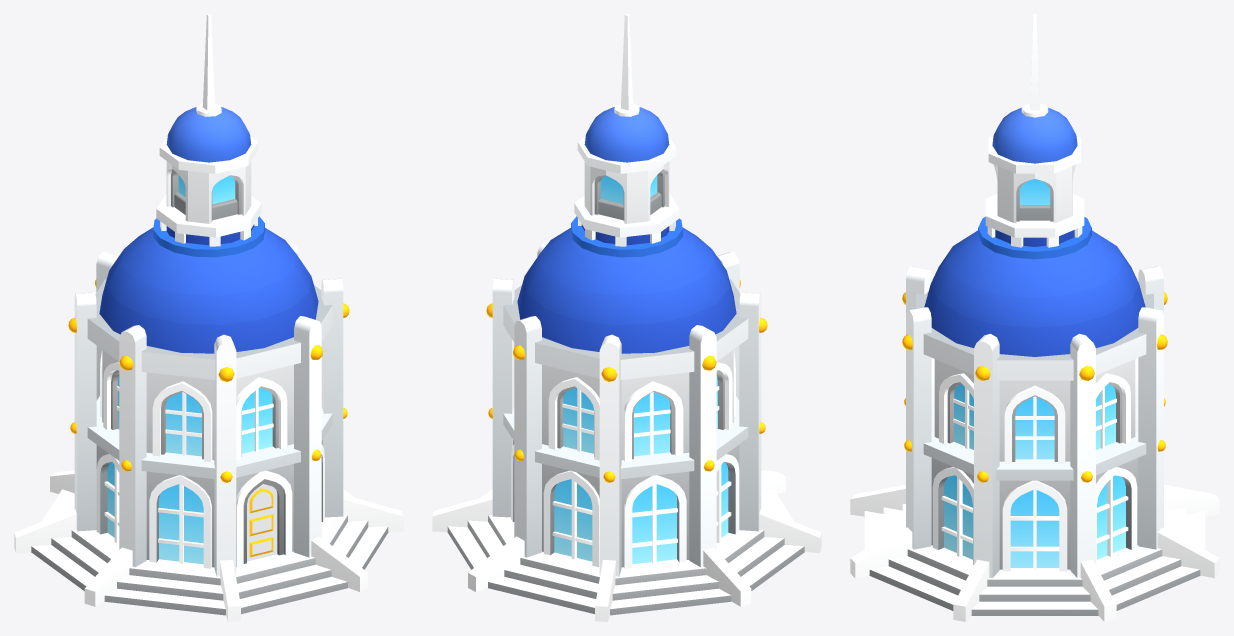
Rendered from Building_Temple_10.glb.
The picture shows the model from 3 angles, left to right: view 1: azimuth 30°, elevation 25°; view 2: azimuth 150°, elevation 25°; view 3: azimuth 270°, elevation 25°; orthographic projection.
Parts seen in each view (by area): view 1: Building_Temple_10; view 2: Building_Temple_10; view 3: Building_Temple_10.
Part boxes in pixels (x1,y1,x2,y2): Building_Temple_10: (14,14,403,621); Building_Temple_10: (432,14,821,621); Building_Temple_10: (850,14,1219,621).
Bounding box in the file's own units: 11.83 × 18.7 × 11.83.
Materials: 1 (1 with a texture image).
